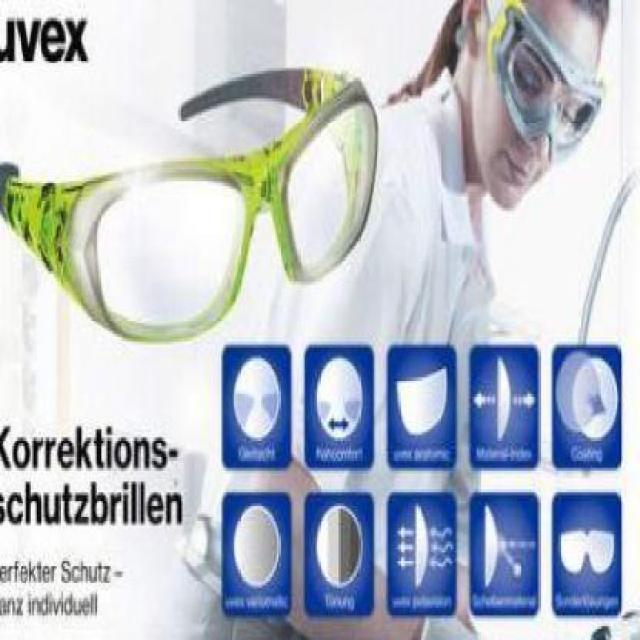face_nomask: (483, 52, 602, 200)
glasses: (482, 0, 606, 162)
